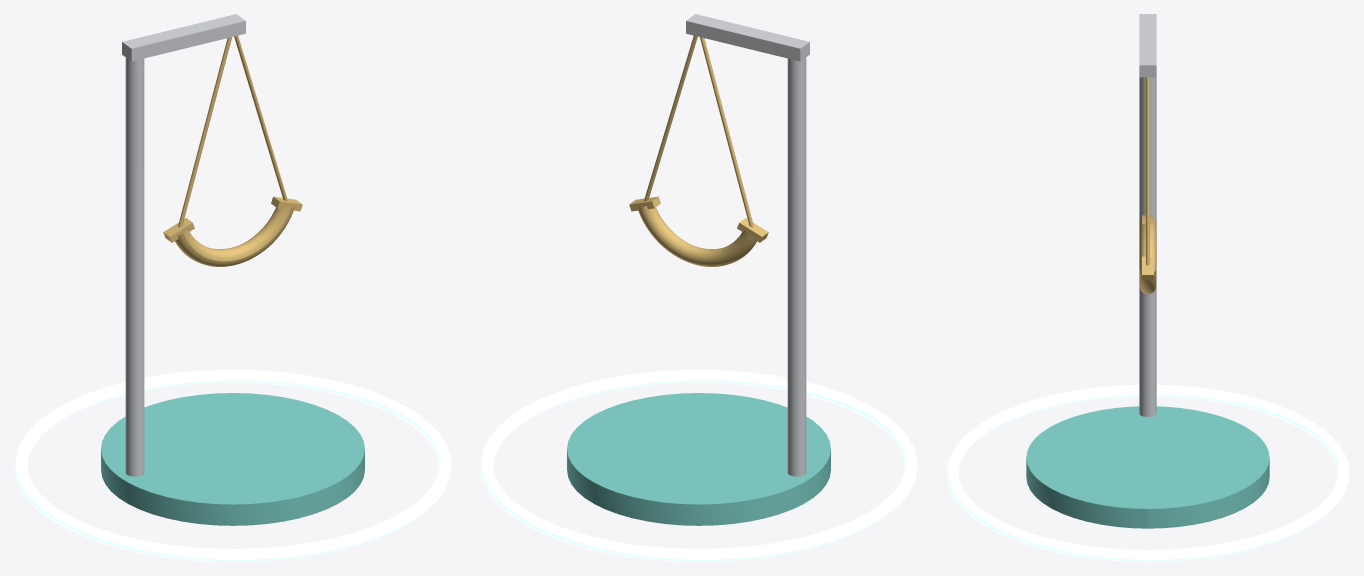
File: tiffany-t-smile-pendant.glb
The picture shows the model from 3 angles, left to right: view 1: azimuth 30°, elevation 25°; view 2: azimuth 150°, elevation 25°; view 3: azimuth 270°, elevation 25°; orthographic projection. The views are drawn at different scales.
Parts seen in each view (by area): view 1: Base, Halo, Post, Arm, Arc, ChainL, ChainR; view 2: Base, Halo, Post, Arm, Arc, ChainL, ChainR; view 3: Base, Halo, Post, Arm, Arc, ChainR.
Part boxes in pixels (box(x1,y1,x2,y2)): Base: box(101, 393, 364, 525); Halo: box(14, 369, 451, 561); Post: box(125, 57, 144, 476); Arm: box(122, 14, 245, 61); Arc: box(175, 206, 294, 266); ChainL: box(178, 37, 231, 227); ChainR: box(234, 35, 287, 200); Base: box(567, 393, 830, 525); Halo: box(480, 369, 917, 561); Post: box(787, 57, 806, 476); Arm: box(686, 14, 809, 61); Arc: box(637, 206, 756, 266); ChainL: box(700, 37, 753, 227); ChainR: box(644, 35, 697, 200); Base: box(1026, 406, 1269, 528); Halo: box(946, 384, 1349, 561); Post: box(1139, 77, 1156, 416); Arm: box(1139, 14, 1156, 77); Arc: box(1139, 220, 1156, 294); ChainR: box(1146, 77, 1149, 265).
Size of the model in its own units: 0.0928 by 0.1059 by 0.0928.
